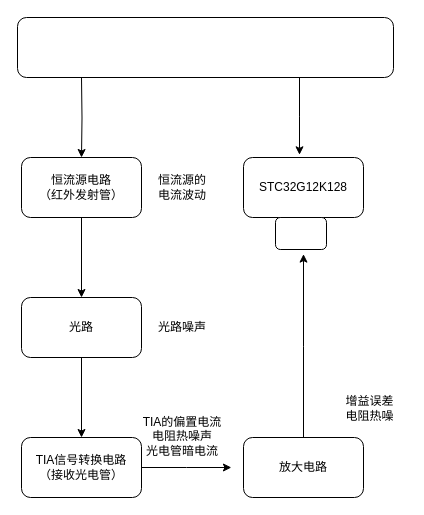
Image size: 424x515. Some labels were removed from this diagram. Here are the shapes that lost their labels. From the top down, the centre of each, then its label:
At (x=205, y=47): "电源".
At (x=300, y=233): "ADC".
